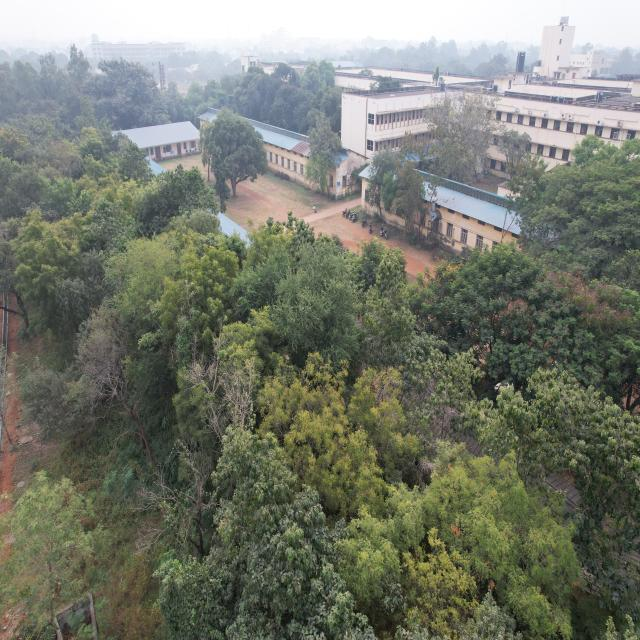Devakanchan tree: (218, 510, 343, 640)
Mango Tree: (197, 115, 268, 199)
Neem Tree: (398, 476, 567, 640), (277, 362, 394, 502), (178, 247, 258, 357), (14, 213, 74, 297)
